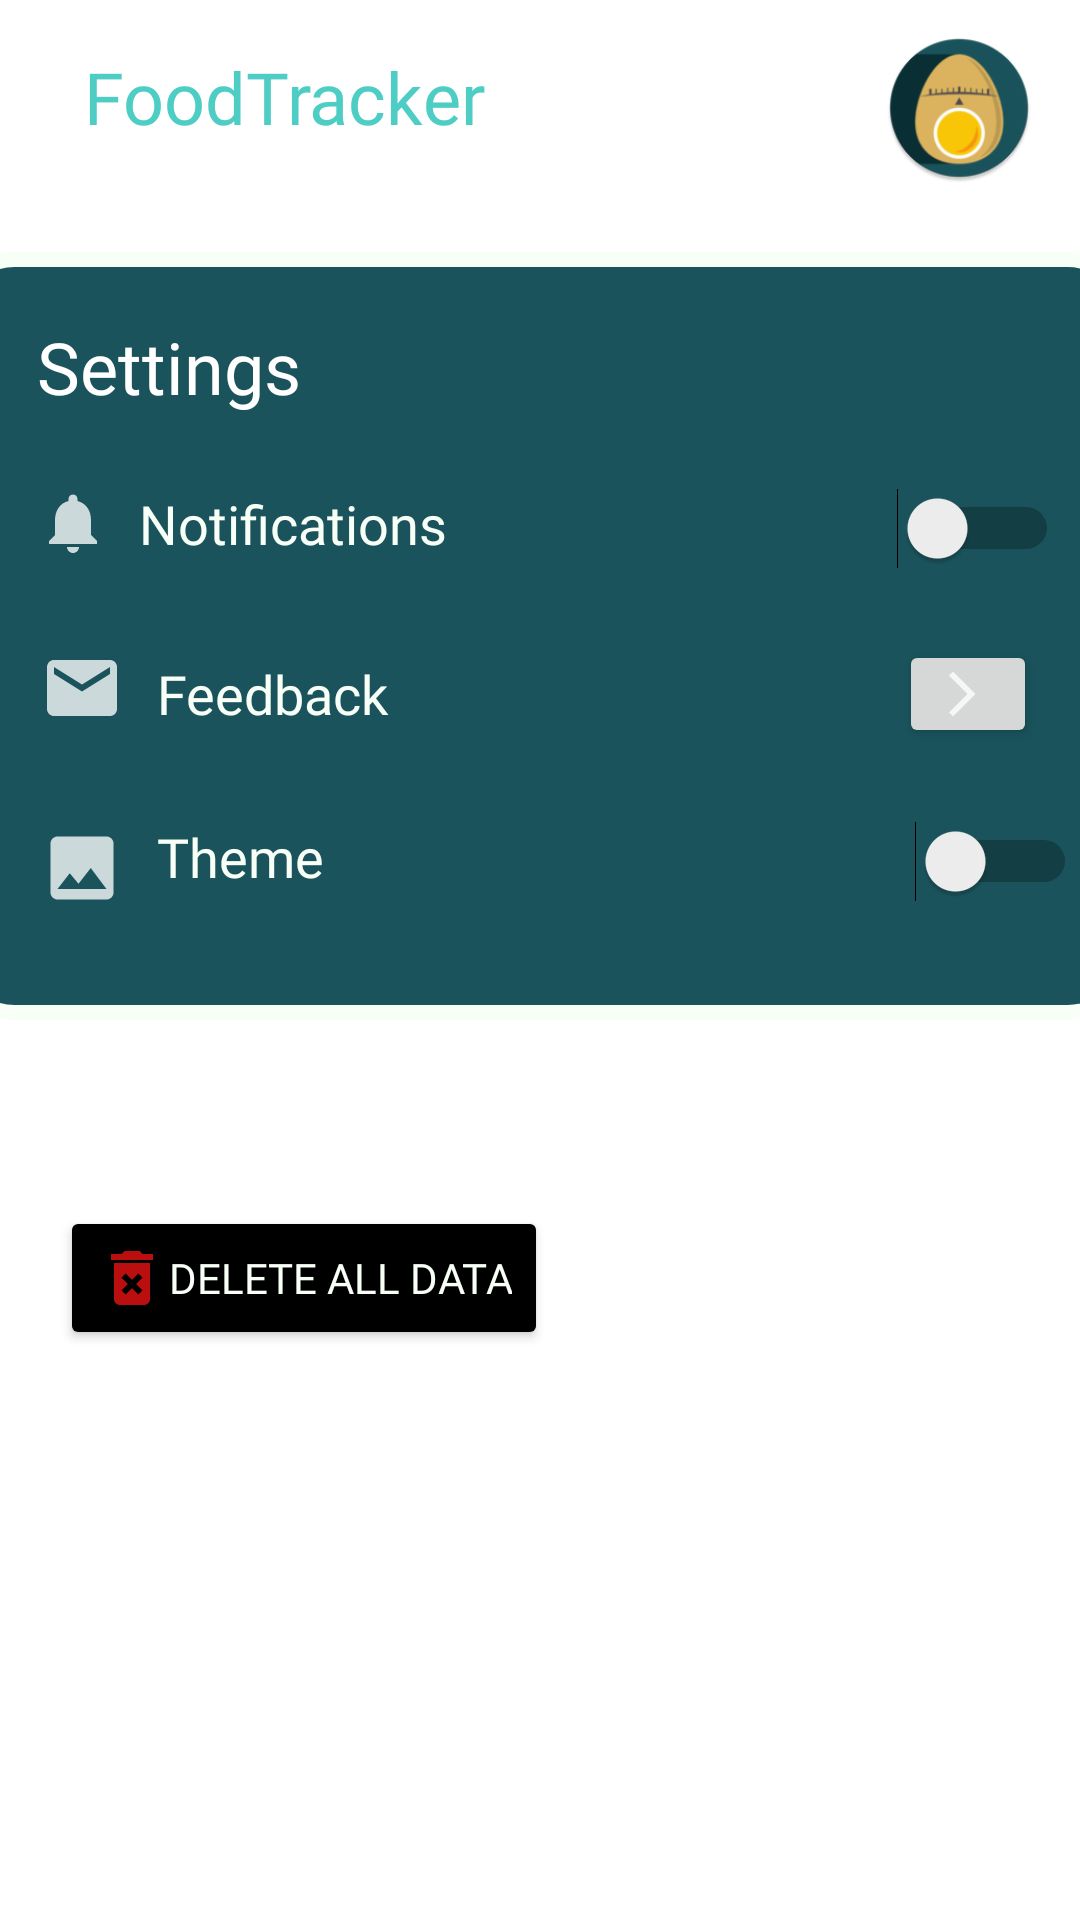

Named icons in this screenshot (1080x1920) and their centers, [x,y]:
email: [82,688]
